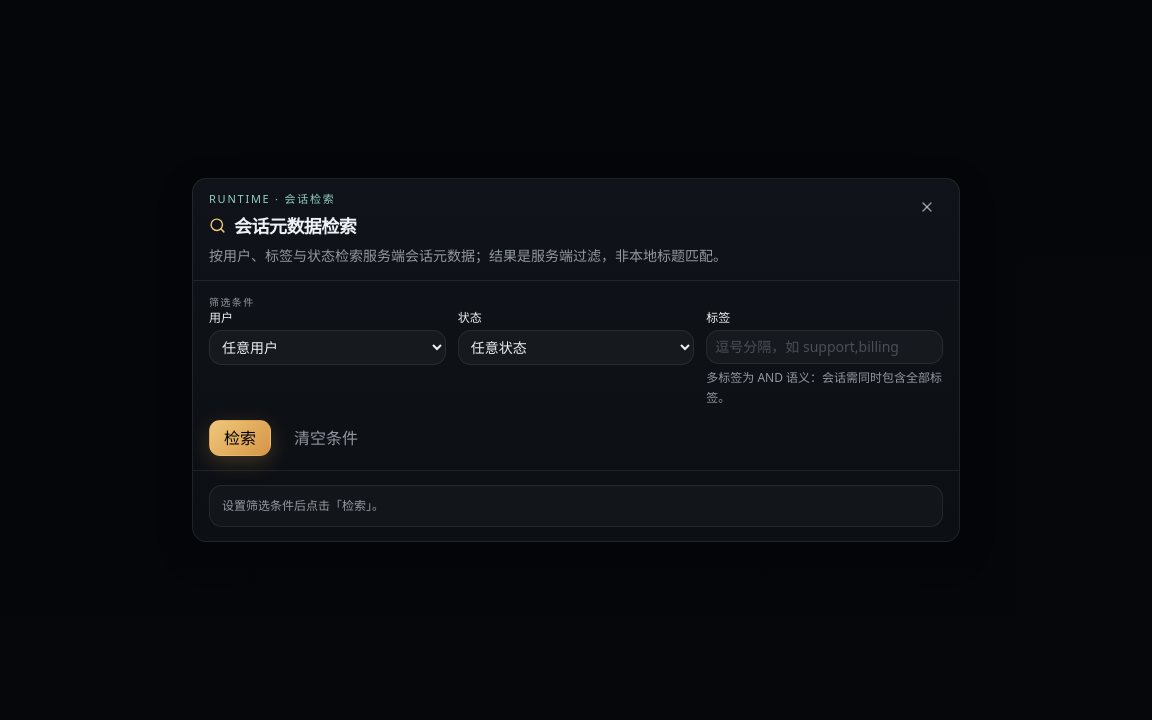
Test: SessionSearchDialog › 命中数达到单页上限时给出细化提示
The width and height of the screenshot is (1152, 720).
Click the button "检索".
click(240, 438)  # box [209, 420, 271, 456]
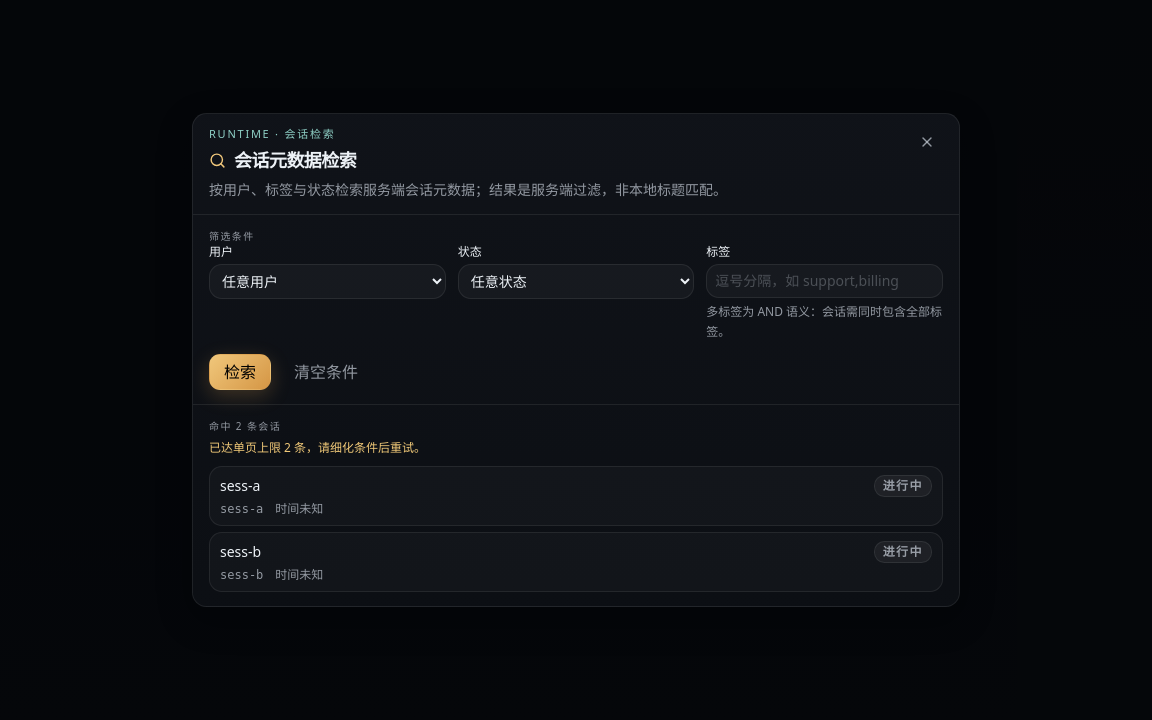
Now the text with test id "session-search-limit-hint" shows "已达单页上限 2 条", box [209, 439, 426, 456]
